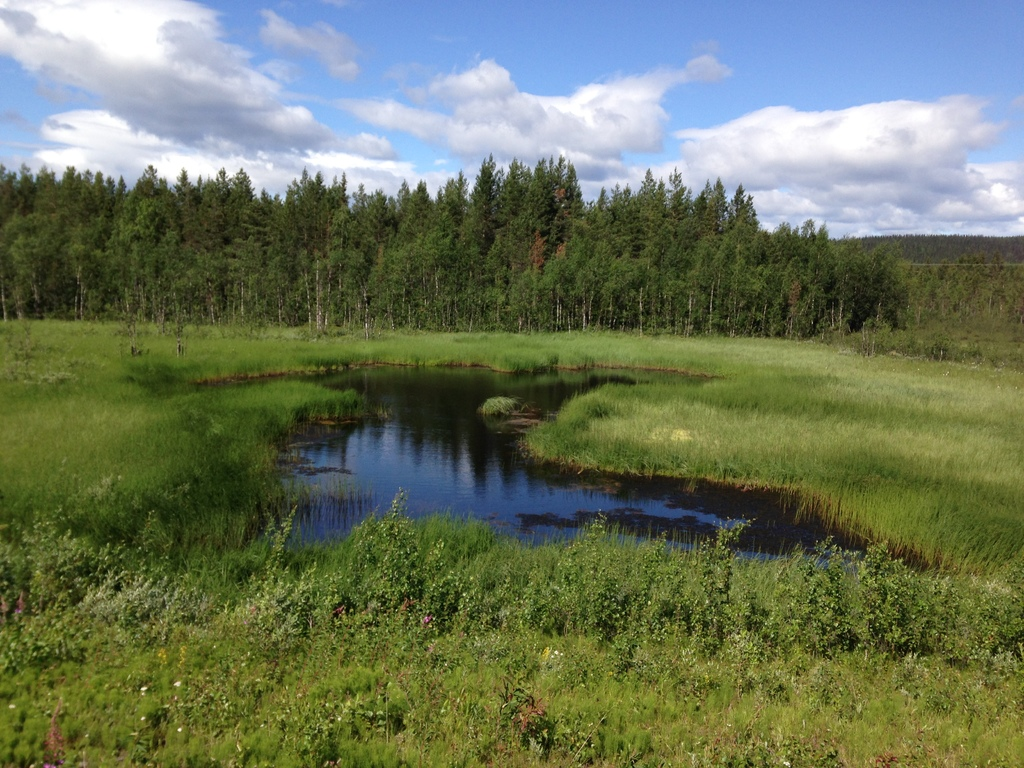Tree: (0, 152, 1024, 355)
